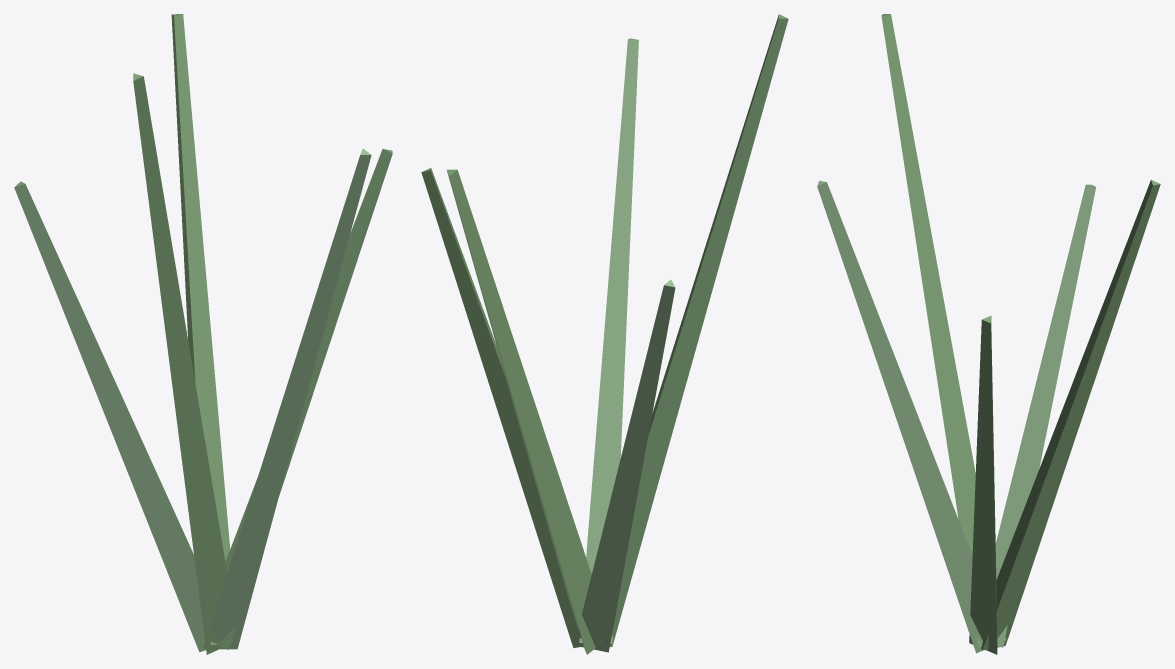
Rendered from grass_tuft_v00.glb.
3 renders of one model, left to right at view 1: azimuth 30°, elevation 25°; view 2: azimuth 150°, elevation 25°; view 3: azimuth 270°, elevation 25°, orthographic. The views are drawn at different scales.
Parts seen in each view (by area): view 1: lod0; view 2: lod0; view 3: lod0.
Part boxes in pixels (<box>): lod0: <box>14,14,392,654</box>; lod0: <box>421,14,788,654</box>; lod0: <box>817,14,1160,654</box>.
Size of what is drawn, in the model's own units: 0.262 by 0.5056 by 0.2741.
